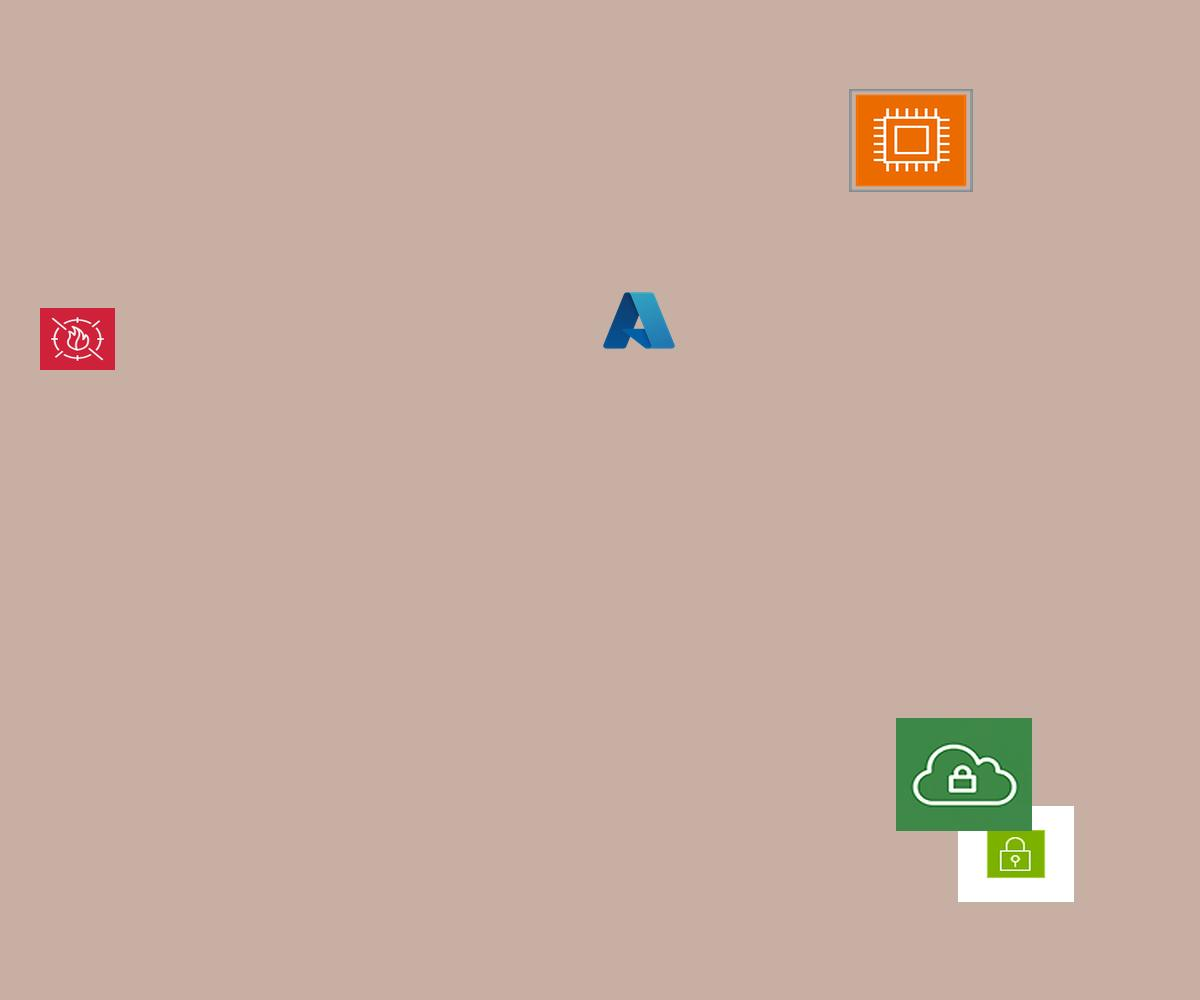AWS-Category_Compute: (849, 89, 973, 192)
AWS-Private_vpc: (896, 718, 1032, 831)
AWS-Public-subnet: (958, 806, 1074, 902)
AWS-WAF: (40, 308, 115, 370)
Azure_services: (600, 288, 678, 353)
